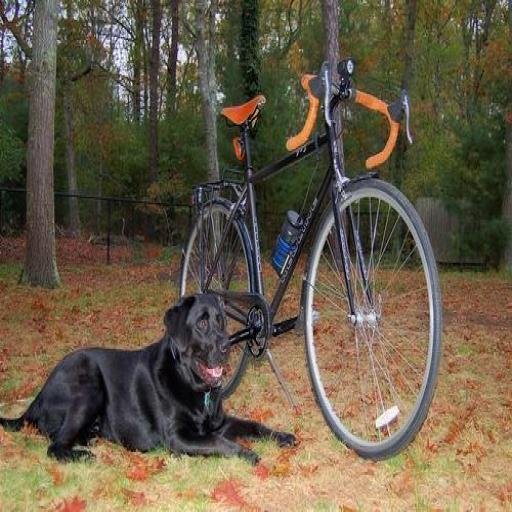dog_face: (164, 298, 231, 388)
